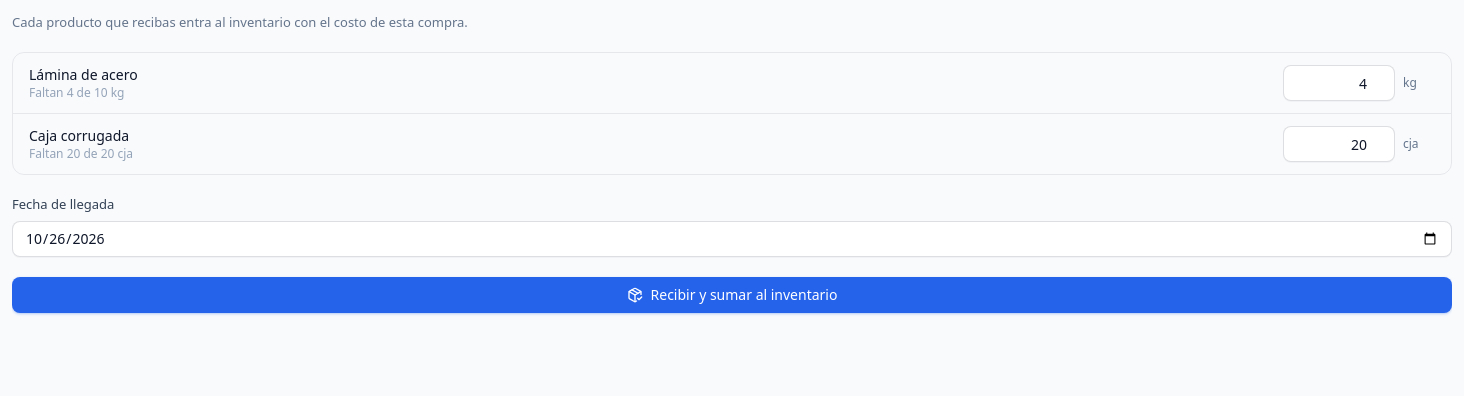
ReceivePurchaseForm › shows the backend error
Step 1. Click the button "Recibir y sumar al inventario" → (732, 294), box [12,276,1452,312]
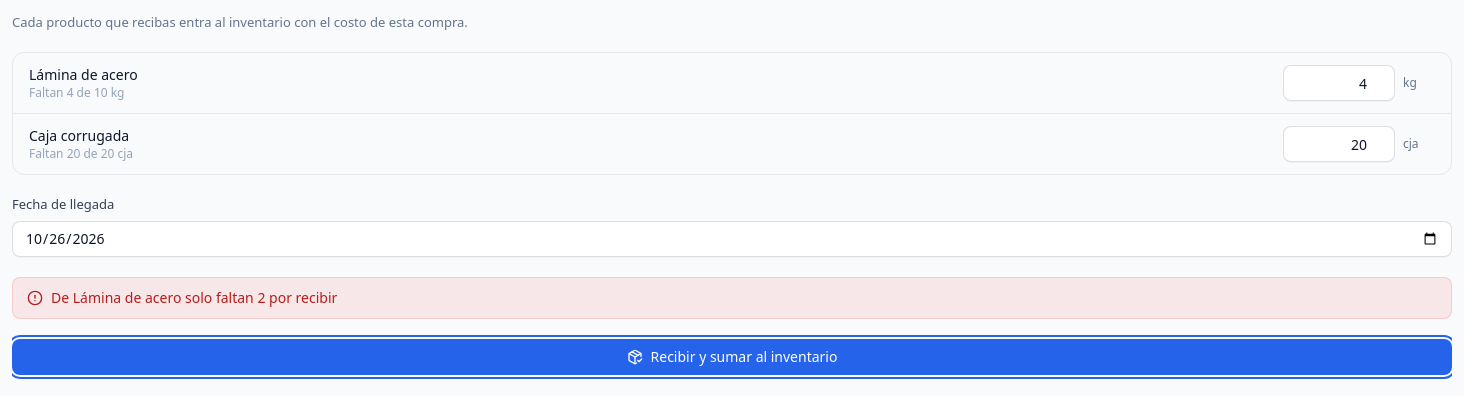
Check: the text "De Lámina de acero solo faltan 2 por recibir" is shown, box [51,288,337,308]
